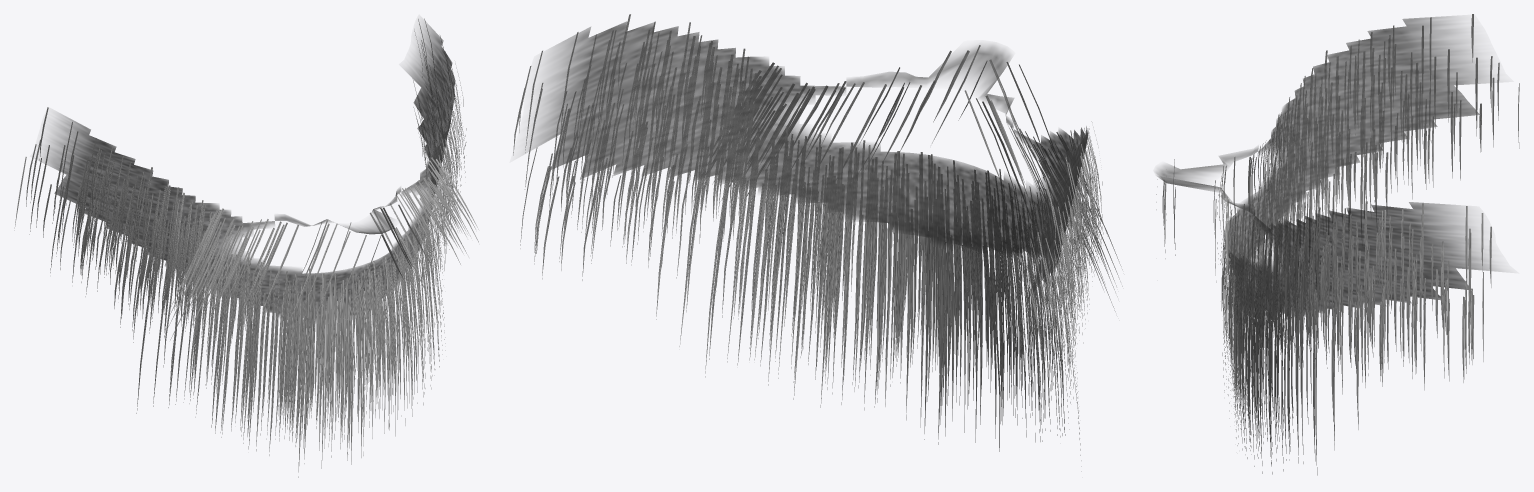
The model's file is unified_m_beard_long.glb.
3 views of the same model, side by side, from view 1: azimuth 30°, elevation 25°; view 2: azimuth 150°, elevation 25°; view 3: azimuth 270°, elevation 25° (orthographic). The views are drawn at different scales.
Visible parts, largest first — view 1: Hair_facial_strands, Hair_beard_roots; view 2: Hair_facial_strands, Hair_beard_roots; view 3: Hair_facial_strands, Hair_beard_roots.
Part boxes in pixels (bbox=[...]): Hair_facial_strands: bbox=[14, 18, 479, 477]; Hair_beard_roots: bbox=[38, 20, 455, 322]; Hair_facial_strands: bbox=[513, 14, 1122, 471]; Hair_beard_roots: bbox=[521, 21, 1089, 299]; Hair_facial_strands: bbox=[1156, 14, 1519, 475]; Hair_beard_roots: bbox=[1155, 16, 1504, 315].
Bounding box in the file's own units: 0.0875 × 0.0686 × 0.0663.
2 materials, 2 textured.
